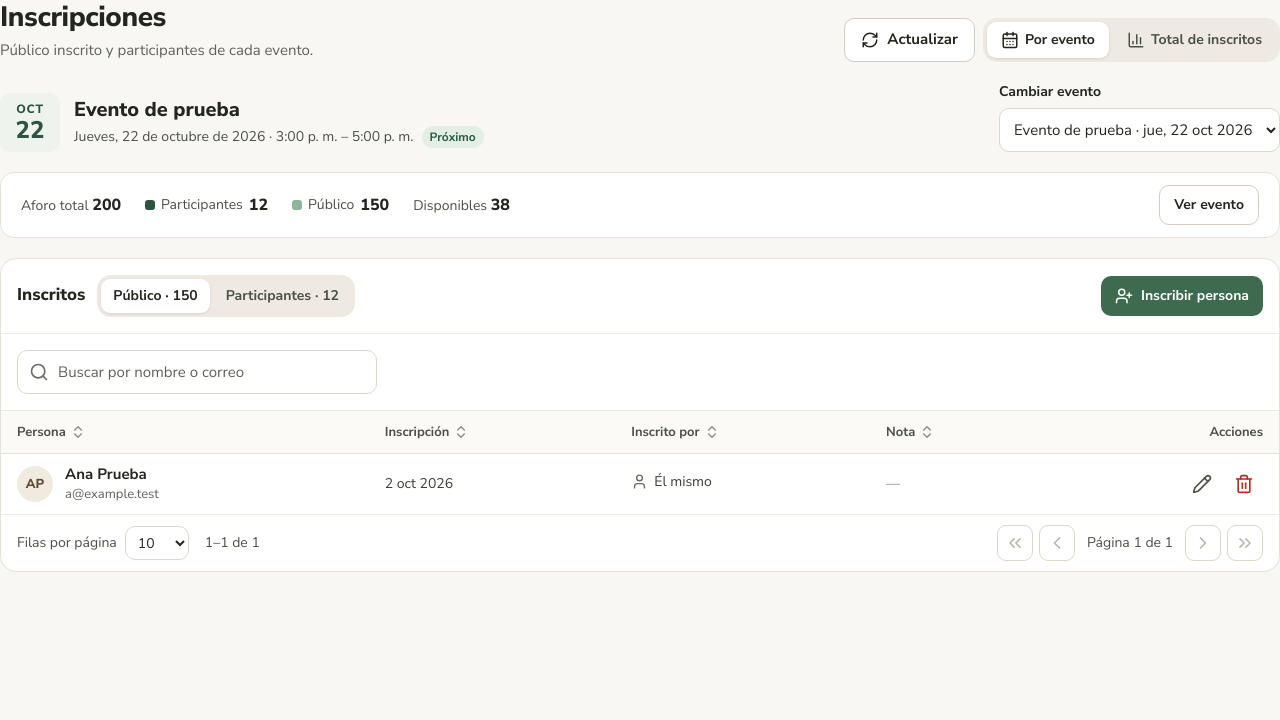
AdminRegistrationsPage · Por evento › eliminar confirma nombrando a la persona y la consecuencia
Click the button named "Eliminar inscripción de Ana Prueba" at point(1244, 484), box [1225,465,1263,503]
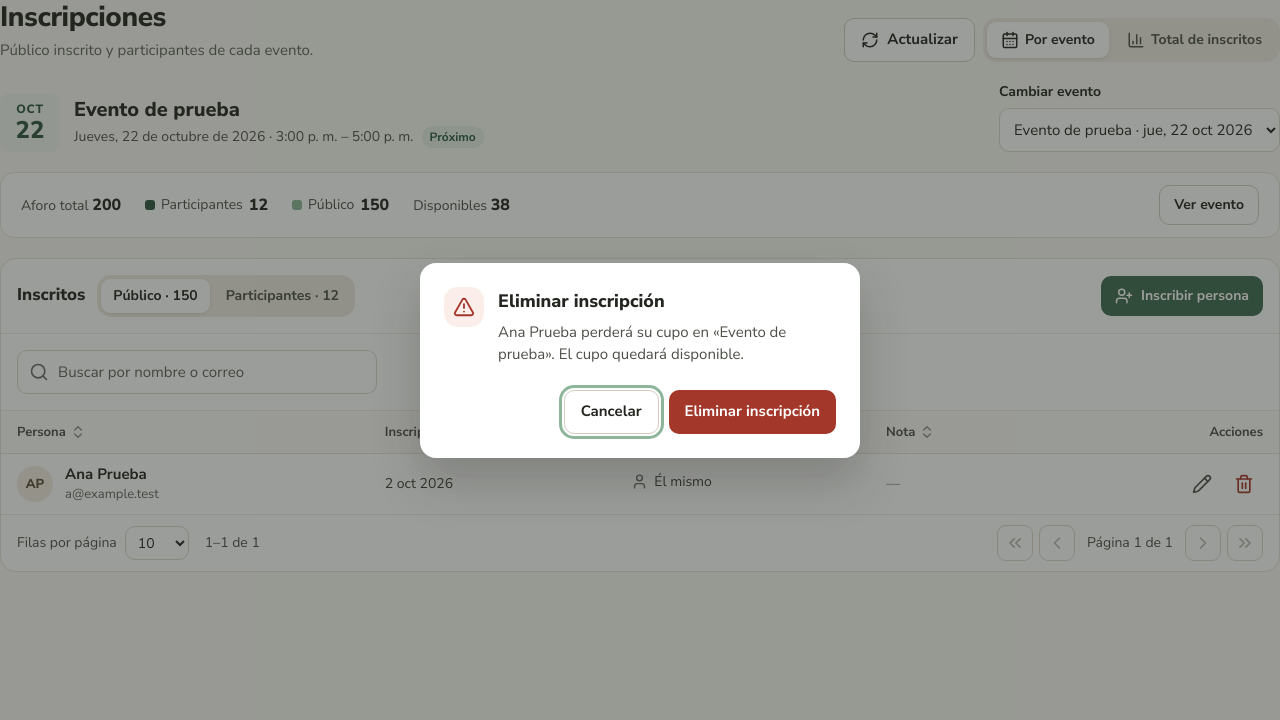
Result: the text "Ana Prueba perderá su cupo en «Evento de prueba». El cupo quedará disponible." is shown at [498,320,836,366]
Click the button "Eliminar inscripción" at point(752, 412), box [668,390,836,434]
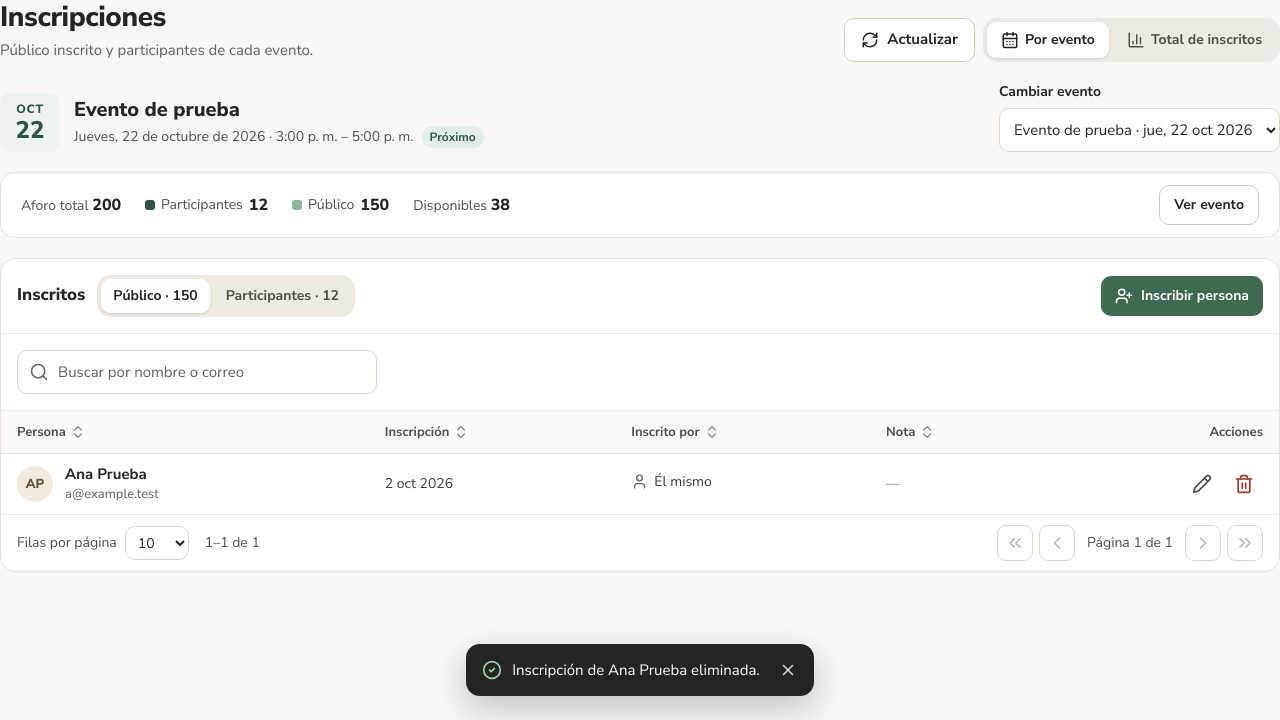
Result: the text "Inscripción de Ana Prueba eliminada." is shown at [512,654,760,686]
